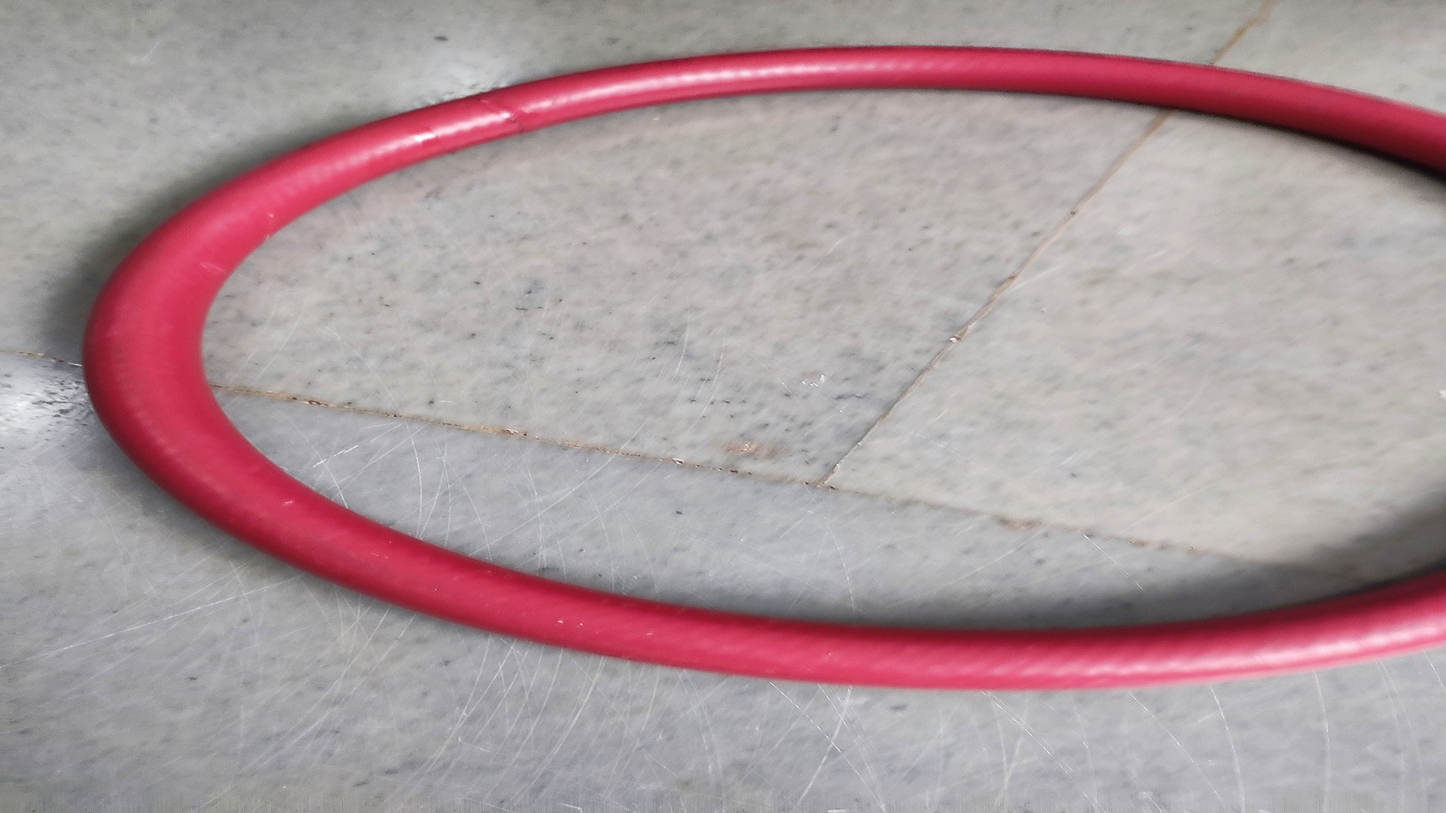Red ring: (87, 49, 1446, 689)
